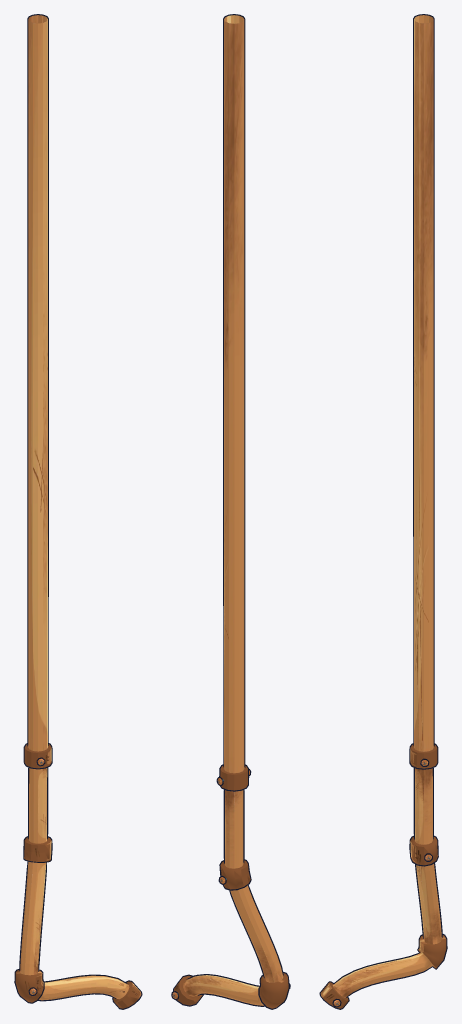
The model's file is steamwand.glb.
3 renders of one model, left to right at view 1: azimuth 90°, elevation 25°; view 2: azimuth 210°, elevation 25°; view 3: azimuth 270°, elevation 25°, orthographic. The views are drawn at different scales.
Parts seen in each view (by area): view 1: tuyau, tuyau border; view 2: tuyau, tuyau border; view 3: tuyau, tuyau border.
Boxes of the visible parts, left/top/right/bottom form: tuyau: left=15, top=15, right=141, bottom=1008; tuyau border: left=14, top=14, right=142, bottom=1009; tuyau: left=174, top=15, right=288, bottom=1008; tuyau border: left=173, top=14, right=289, bottom=1009; tuyau: left=320, top=15, right=446, bottom=1008; tuyau border: left=319, top=14, right=447, bottom=1009.
Size of the model in its own units: 0.4965 by 6.92 by 0.8122.
Materials: 3 (2 with a texture image).
